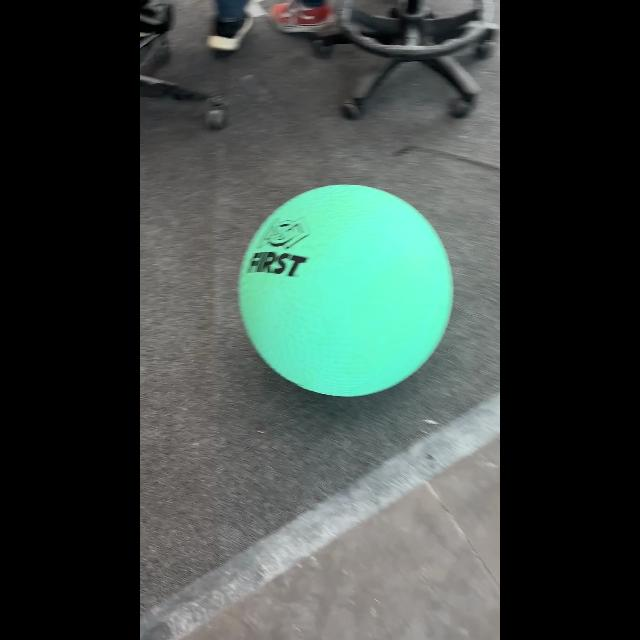ALGAE: (238, 182, 454, 398)
